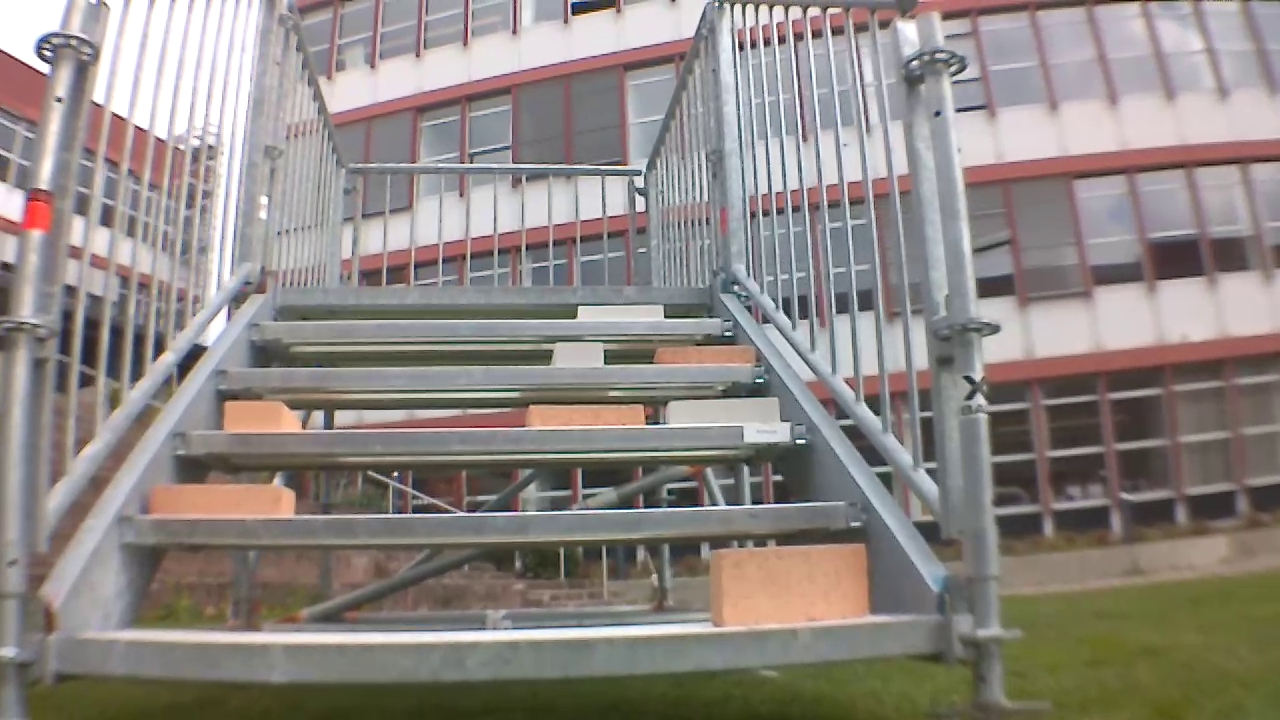brick: (711, 548, 874, 631), (129, 484, 311, 518), (511, 399, 641, 430), (211, 400, 301, 433), (651, 344, 767, 369), (660, 402, 779, 425), (570, 303, 664, 323), (548, 343, 604, 371)
edge: (45, 612, 961, 684), (118, 498, 875, 554), (167, 422, 819, 463), (204, 371, 778, 395), (251, 315, 738, 343), (267, 287, 726, 308)
stairs: (10, 0, 1007, 709)
steps: (27, 284, 959, 703)
